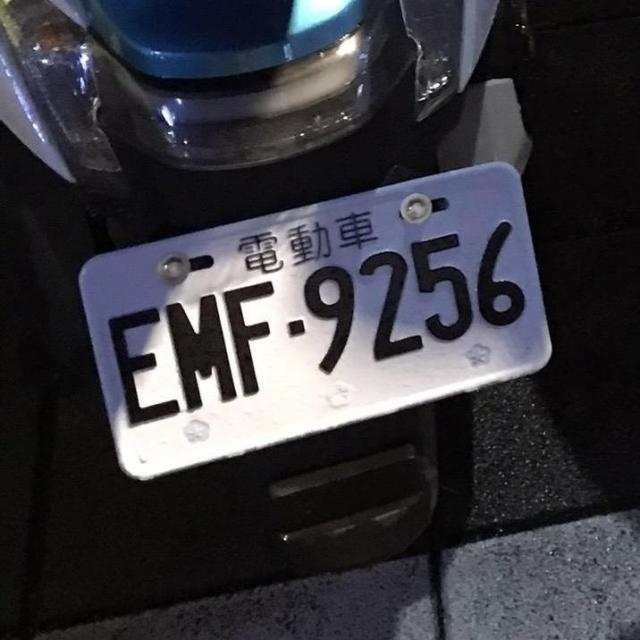W: (73, 157, 559, 486)
